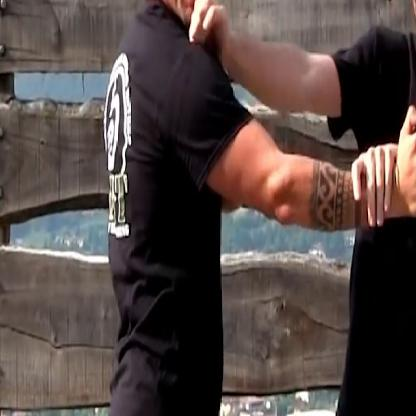knife: (402, 102, 416, 329)
